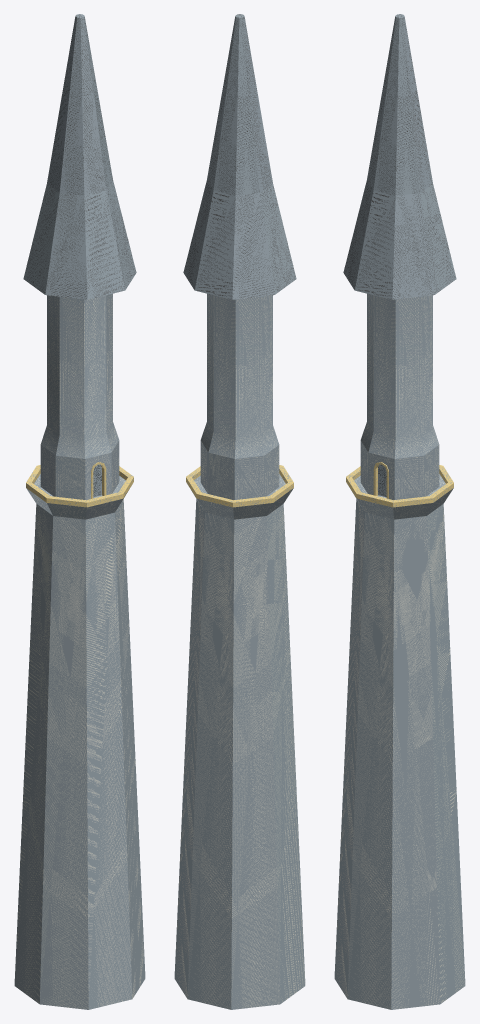
File: Castle_Tower_Small_01.fbx
3 renders of one model, left to right at view 1: azimuth 30°, elevation 25°; view 2: azimuth 150°, elevation 25°; view 3: azimuth 330°, elevation 25°, orthographic.
Parts seen in each view (by area): view 1: Model; view 2: Model; view 3: Model.
Part boxes in pixels (x1=…): Model: x1=14, y1=14, x2=145, y2=1009; Model: x1=174, y1=14, x2=305, y2=1009; Model: x1=334, y1=14, x2=465, y2=1009.
Size of the model in its own units: 699 by 6109 by 699.
